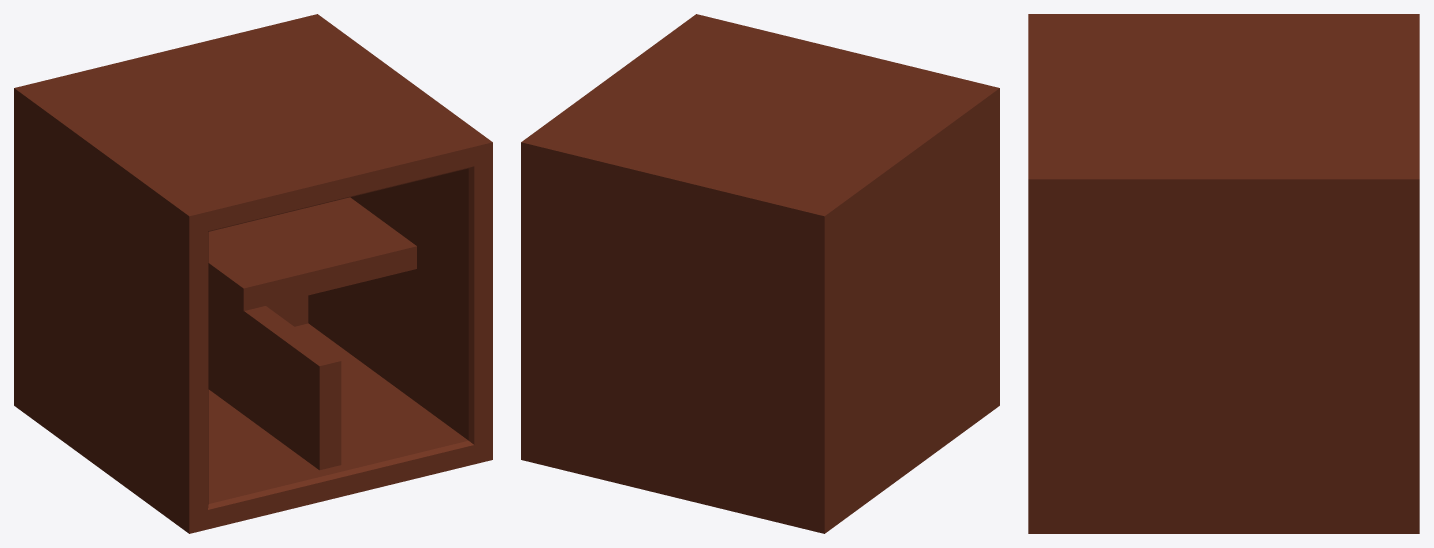
The model's file is Book_Shelves_Mod01.fbx.
3 renders of one model, left to right at view 1: azimuth 30°, elevation 25°; view 2: azimuth 150°, elevation 25°; view 3: azimuth 270°, elevation 25°, orthographic. The views are drawn at different scales.
Visible parts, largest first — view 1: Book_Shelves_Mod01; view 2: Book_Shelves_Mod01; view 3: Book_Shelves_Mod01.
Part boxes in pixels (<box>): Book_Shelves_Mod01: <box>14,14,492,533</box>; Book_Shelves_Mod01: <box>521,14,999,533</box>; Book_Shelves_Mod01: <box>1028,14,1419,533</box>.
Size of the model in its own units: 70 by 70 by 70.
Materials: 1 (1 with a texture image).
